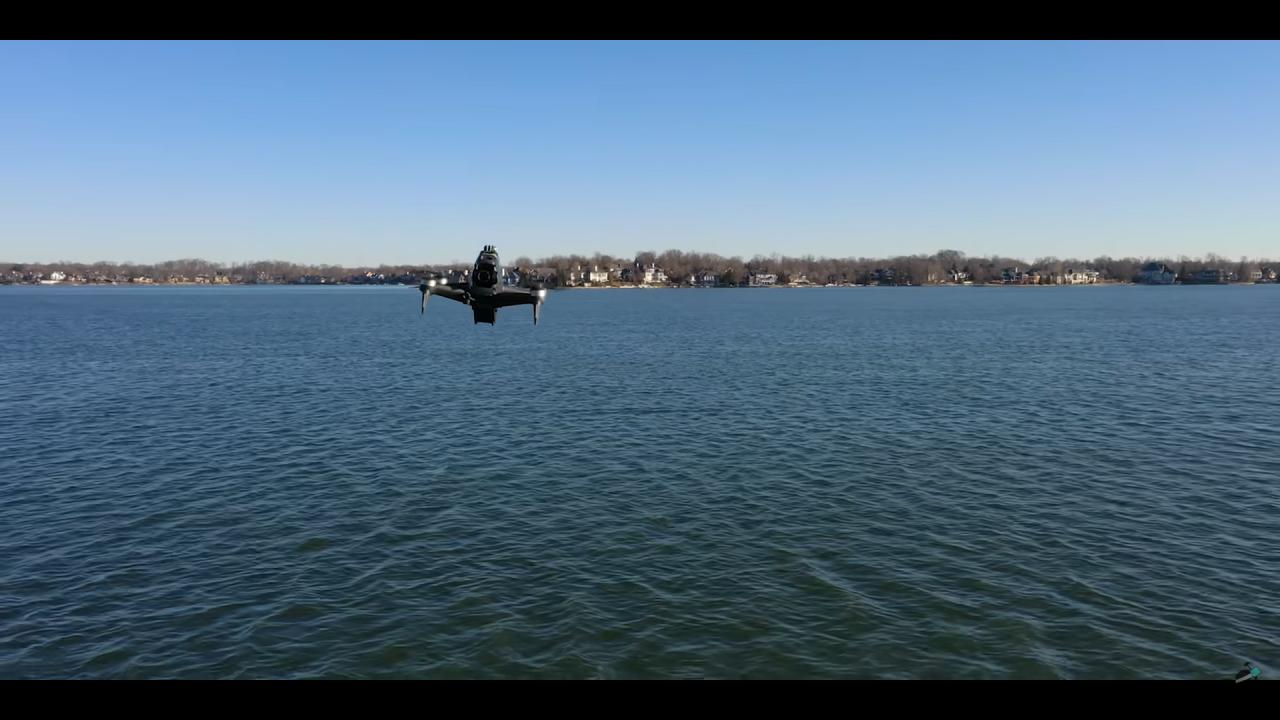Drone: (405, 237, 562, 333)
